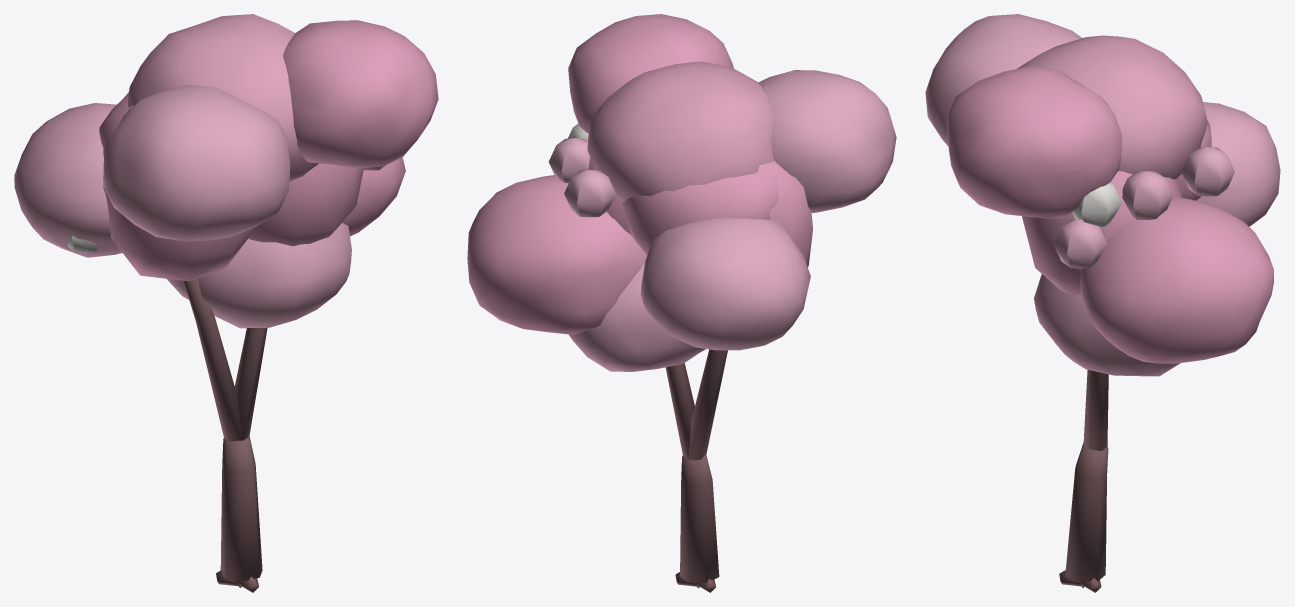
File: cherry_blossom_b1.glb
The picture shows the model from 3 angles, left to right: view 1: azimuth 30°, elevation 25°; view 2: azimuth 150°, elevation 25°; view 3: azimuth 270°, elevation 25°; orthographic projection. The views are drawn at different scales.
Parts seen in each view (by area): view 1: cherry_blossom_b1; view 2: cherry_blossom_b1; view 3: cherry_blossom_b1.
Part boxes in pixels (x1,y1,x2,y2): cherry_blossom_b1: [14, 14, 438, 592]; cherry_blossom_b1: [467, 14, 896, 592]; cherry_blossom_b1: [925, 14, 1280, 592].
Size of what is drawn, in the model's own units: 4.62 by 7 by 4.14.
